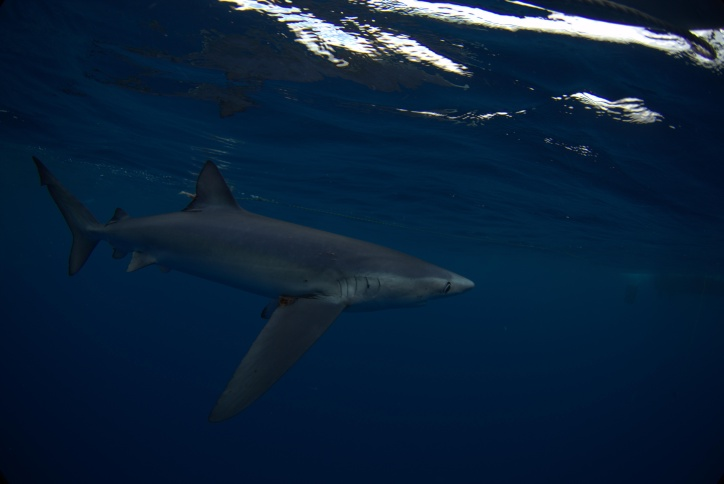Azul: (1, 114, 502, 415)
